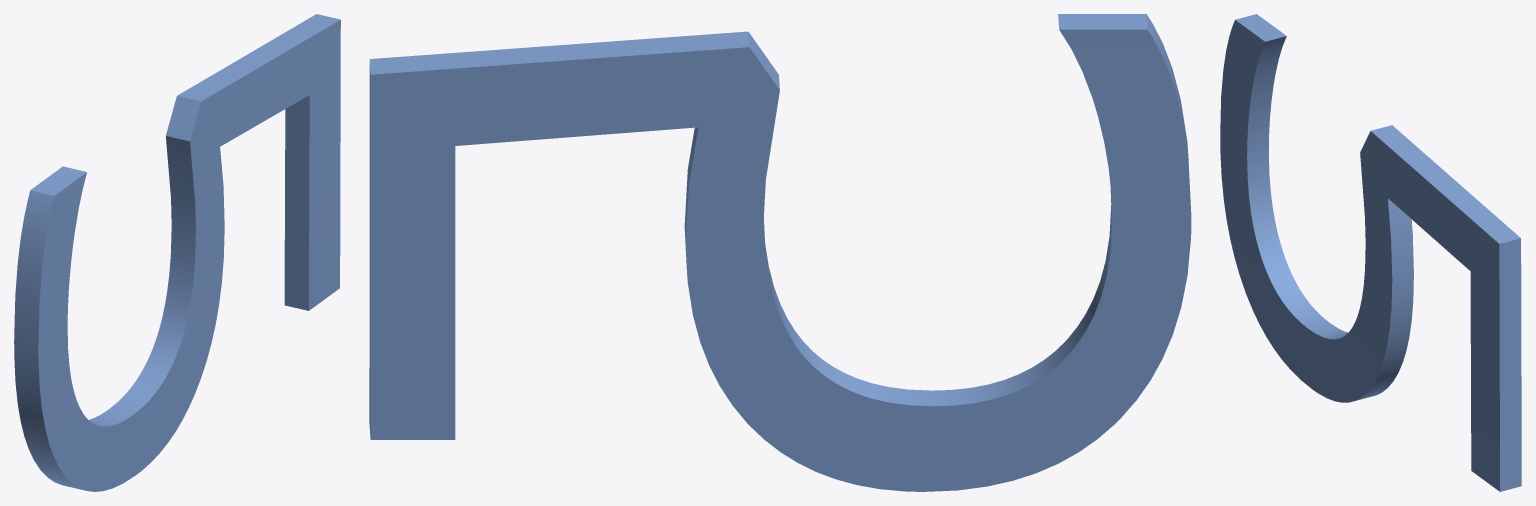
Rendered from New_Number_5.gltf.
3 views of the same model, side by side, from view 1: azimuth 30°, elevation 25°; view 2: azimuth 150°, elevation 25°; view 3: azimuth 270°, elevation 25° (orthographic). The views are drawn at different scales.
Visible parts, largest first — view 1: Part 14; view 2: Part 14; view 3: Part 14.
Boxes of the visible parts, x1,y1,x2,y2 form: Part 14: (14,14,340,491); Part 14: (369,14,1191,491); Part 14: (1220,14,1521,491).
Size of the model in its own units: 0.00496 by 0.00346 by 0.00301.
